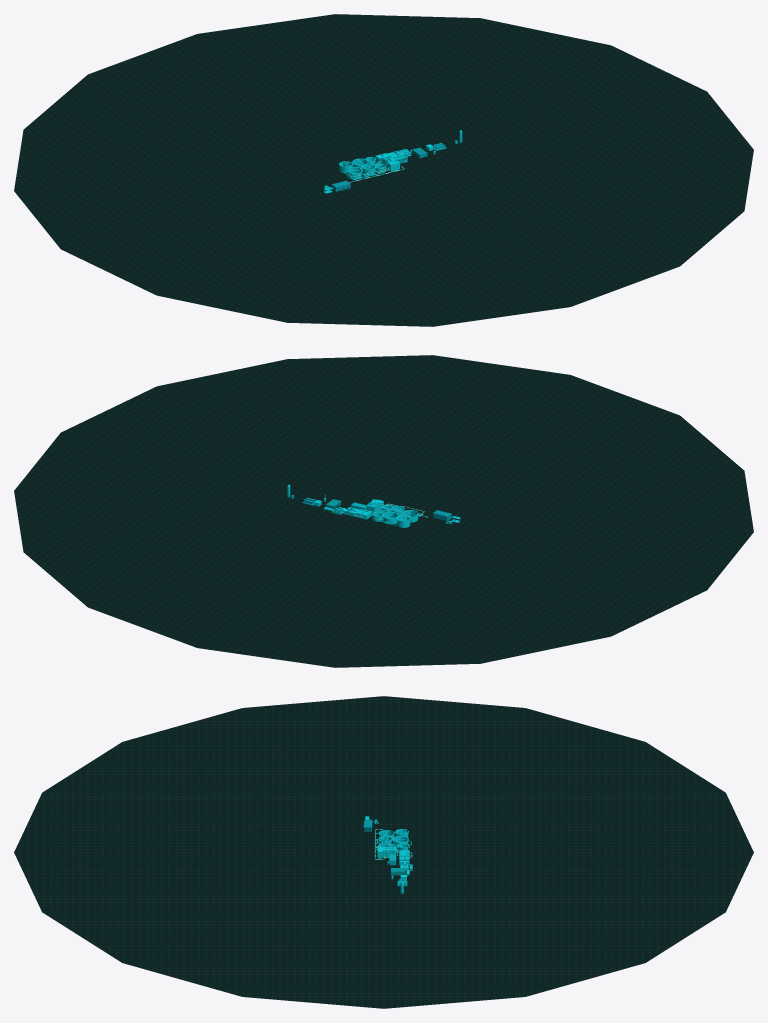
File: 主场景3.gltf
The picture shows the model from 3 angles, top to bottom: view 1: azimuth 30°, elevation 25°; view 2: azimuth 150°, elevation 25°; view 3: azimuth 270°, elevation 25°; orthographic projection.
Visible parts, largest first — view 1: 圆盘1, 生化池; view 2: 圆盘1, 生化池; view 3: 圆盘1, 生化池.
Boxes of the visible parts, x1,y1,x2,y2 form: 圆盘1: [14, 14, 753, 326]; 生化池: [339, 156, 385, 179]; 圆盘1: [14, 355, 753, 667]; 生化池: [372, 504, 418, 527]; 圆盘1: [14, 696, 753, 1008]; 生化池: [378, 829, 408, 853].
Size of the model in its own units: 1000 by 26.74 by 1000.
12 materials, 7 textured.
